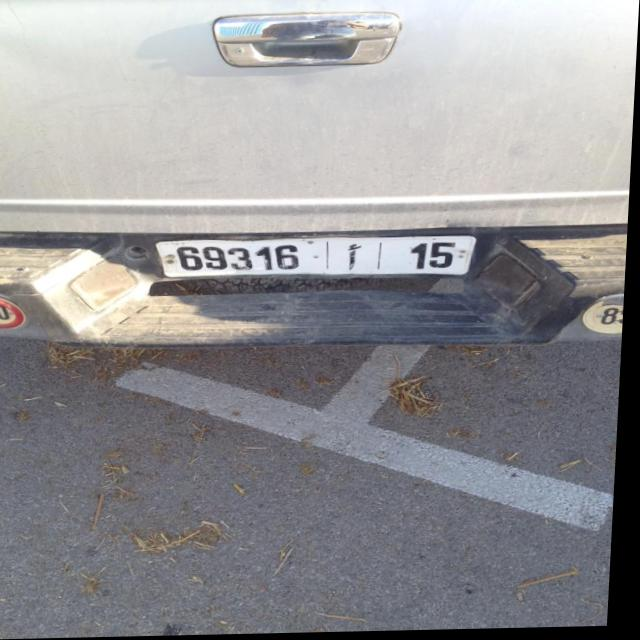License-Plate: (158, 238, 478, 279)
